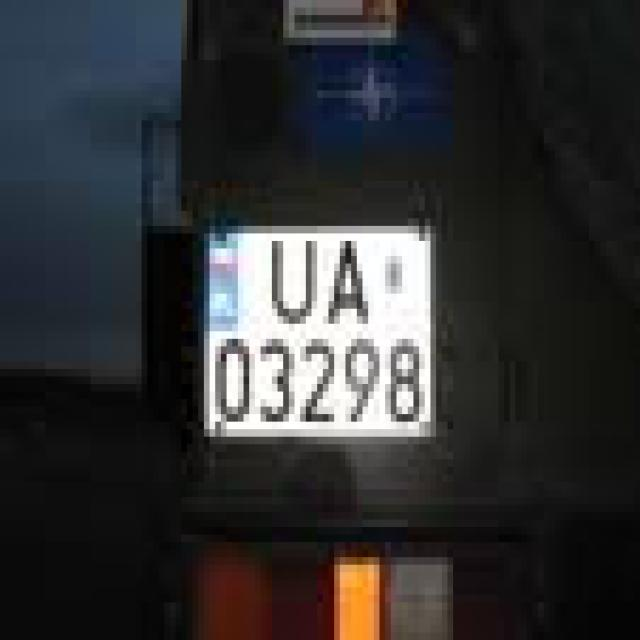pl_license_plate: (198, 211, 425, 429)
